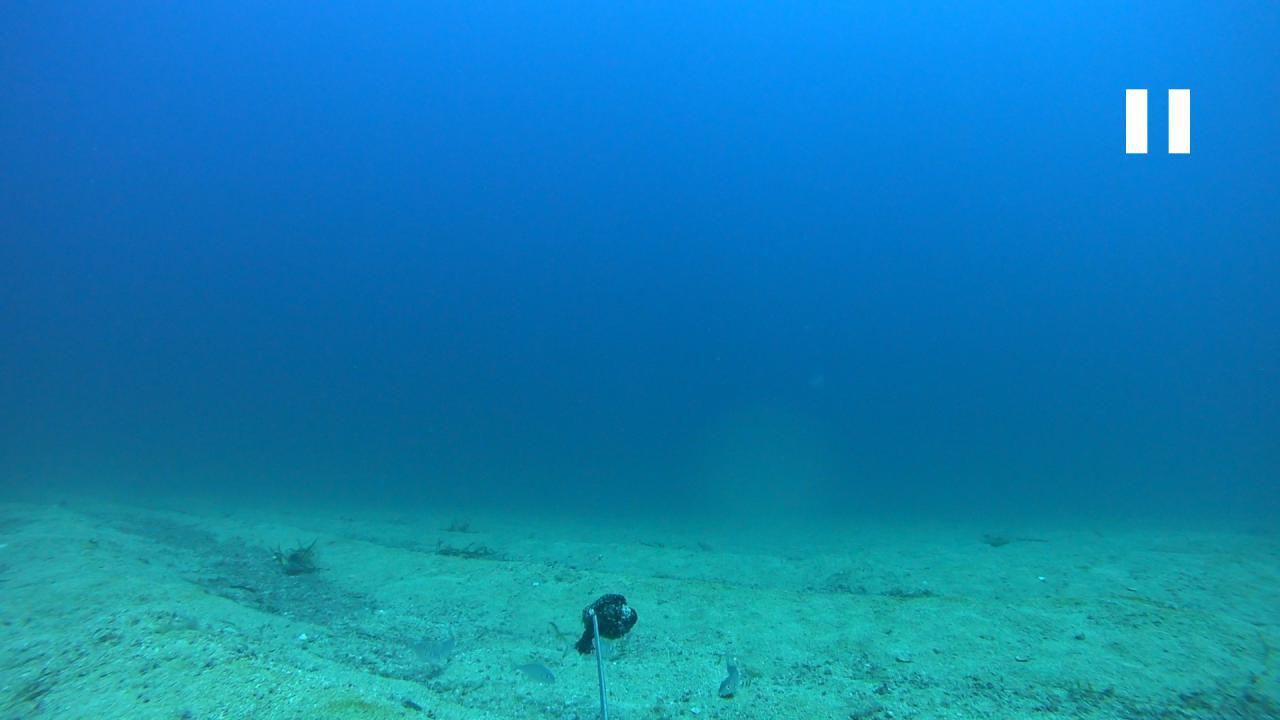dasyatis: (978, 530, 1052, 548)
pagellus: (718, 658, 742, 698), (517, 661, 558, 683)
